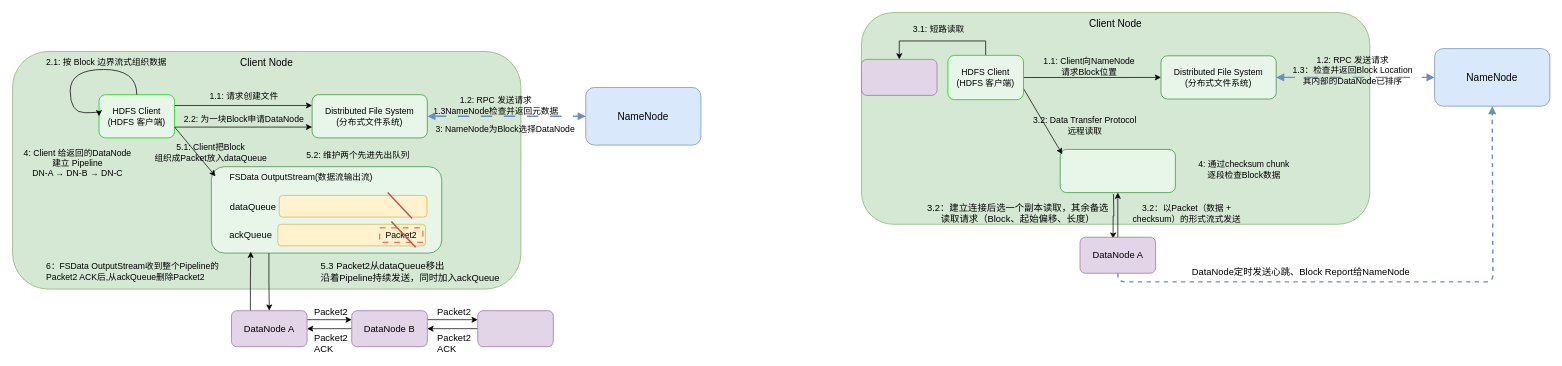
The diagram is 1562 pixels wide and 366 high, and some of its shapes have lost their labels. Here are the shapes that lost their labels. From the top down, the box of each, then its label:
(861, 59, 937, 95): 本地Block文件
(1059, 149, 1175, 193): FSData InputStream (数据流输入流)
(279, 195, 427, 217): packet4 packet3 packet2
(477, 310, 553, 347): DataNode C
